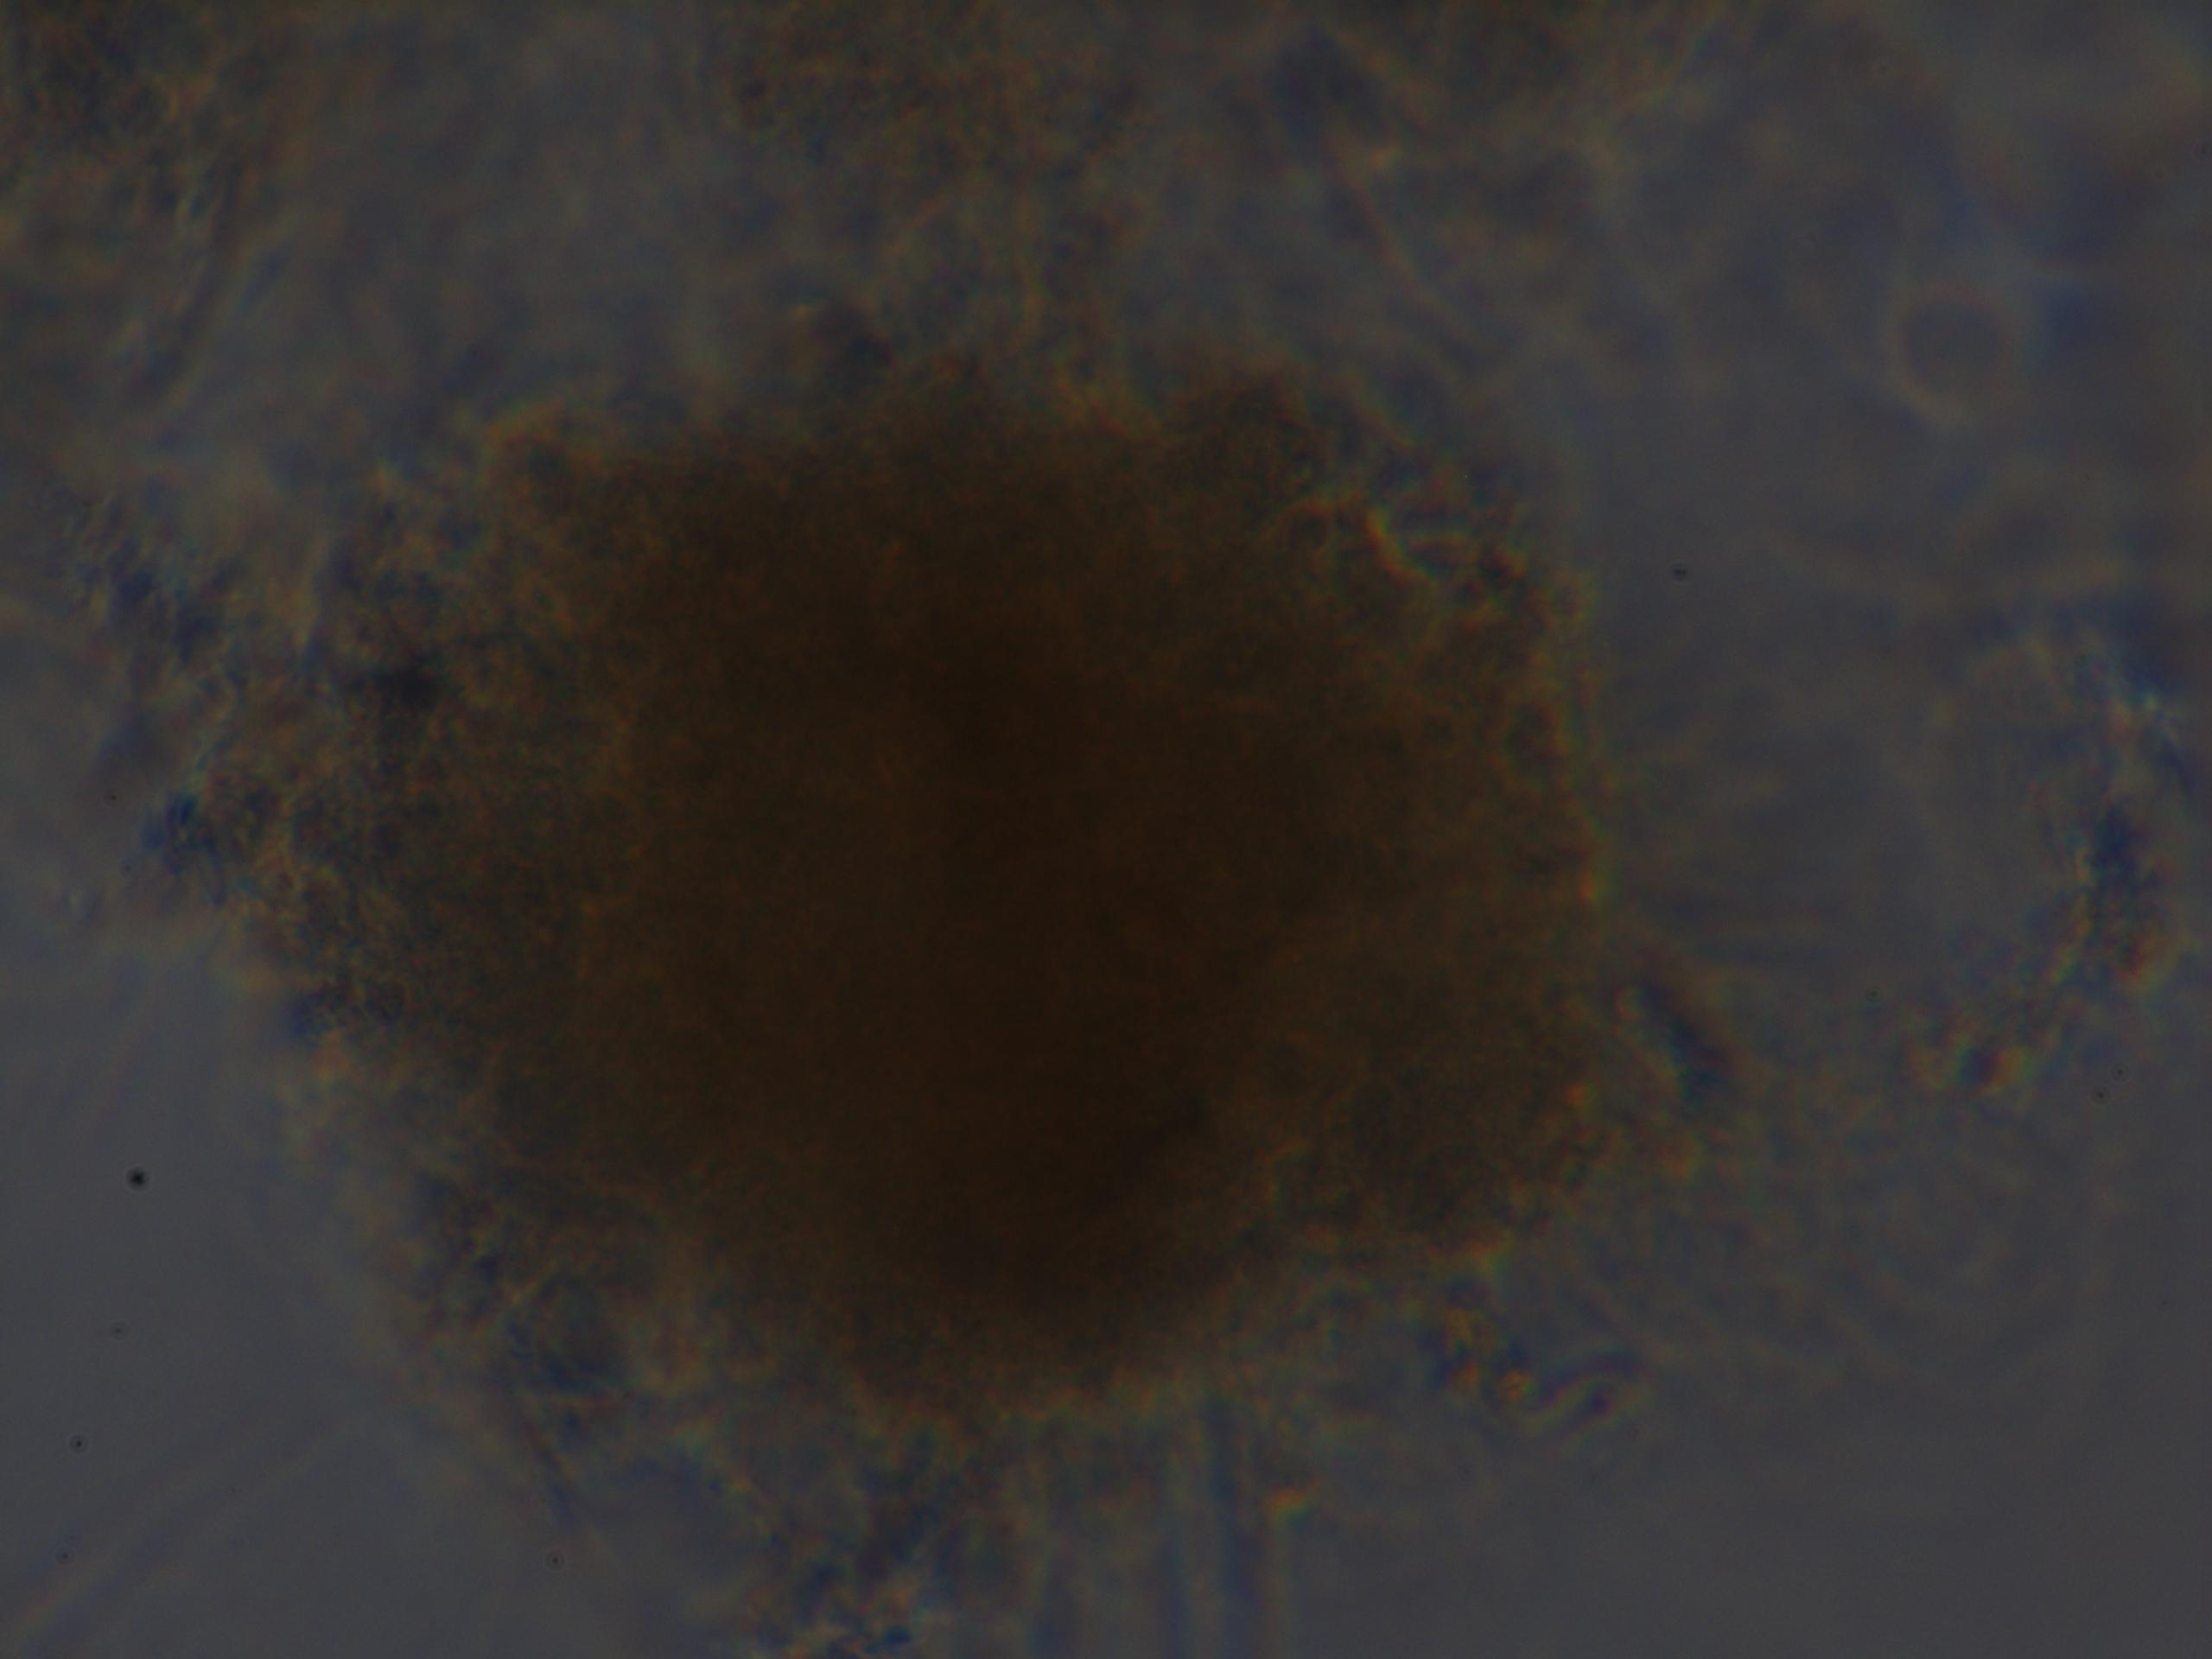spherical_floc: (216, 315, 1686, 1466)
